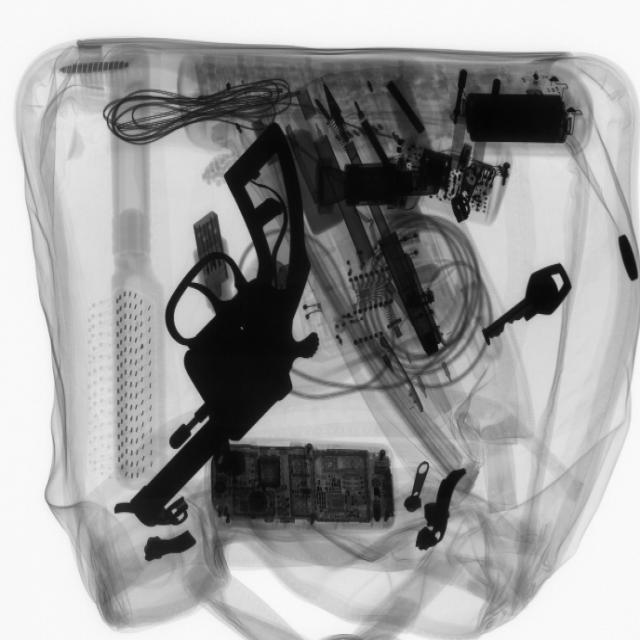GUN: (130, 124, 321, 529)
